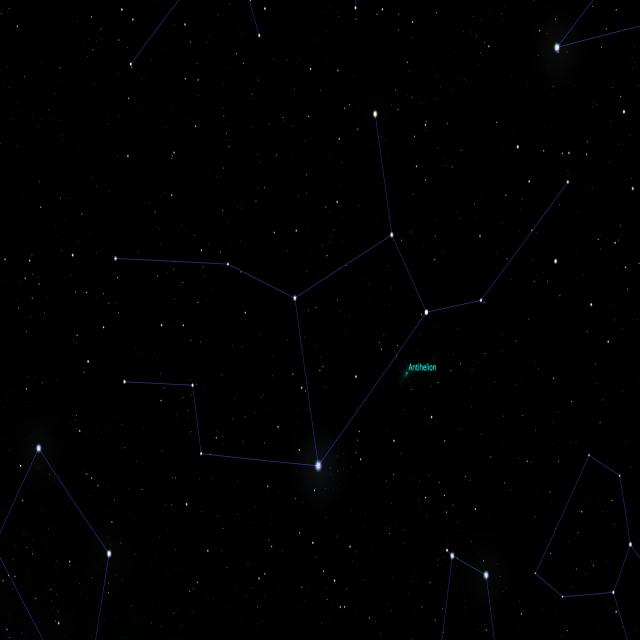Virgo: (108, 107, 572, 477)
